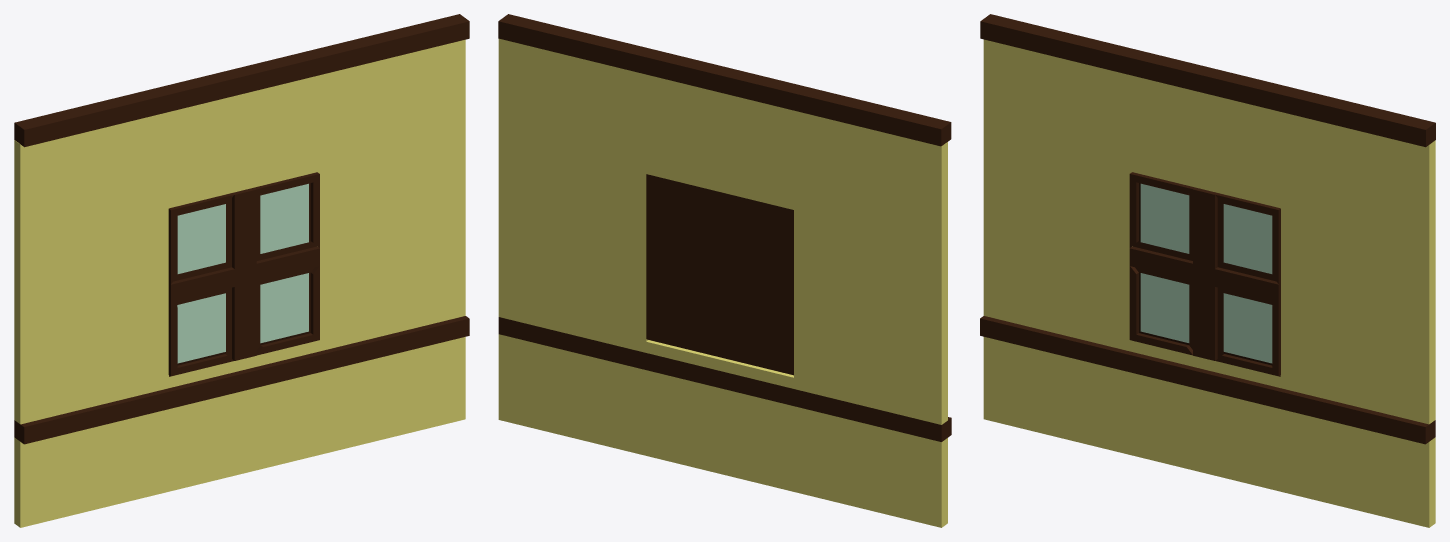
Rendered from pared1.fbx.
The picture shows the model from 3 angles, left to right: view 1: azimuth 30°, elevation 25°; view 2: azimuth 150°, elevation 25°; view 3: azimuth 330°, elevation 25°; orthographic projection.
Parts seen in each view (by area): view 1: Pared_1; view 2: Pared_1; view 3: Pared_1.
Part boxes in pixels (x1,y1,x2,y2): Pared_1: [14, 14, 469, 527]; Pared_1: [498, 14, 951, 527]; Pared_1: [980, 14, 1435, 527].
Bounding box in the file's own units: 1971 × 1694 × 76.53.
